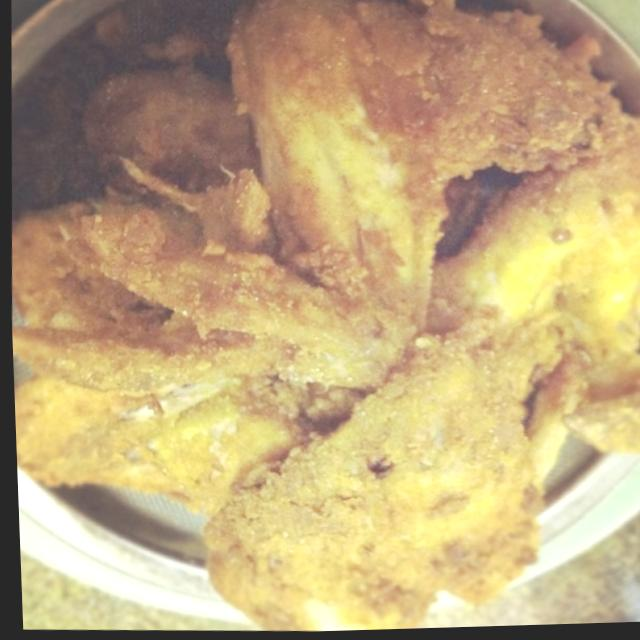鸡肉料理 含炸鸡: (0, 0, 640, 629)
